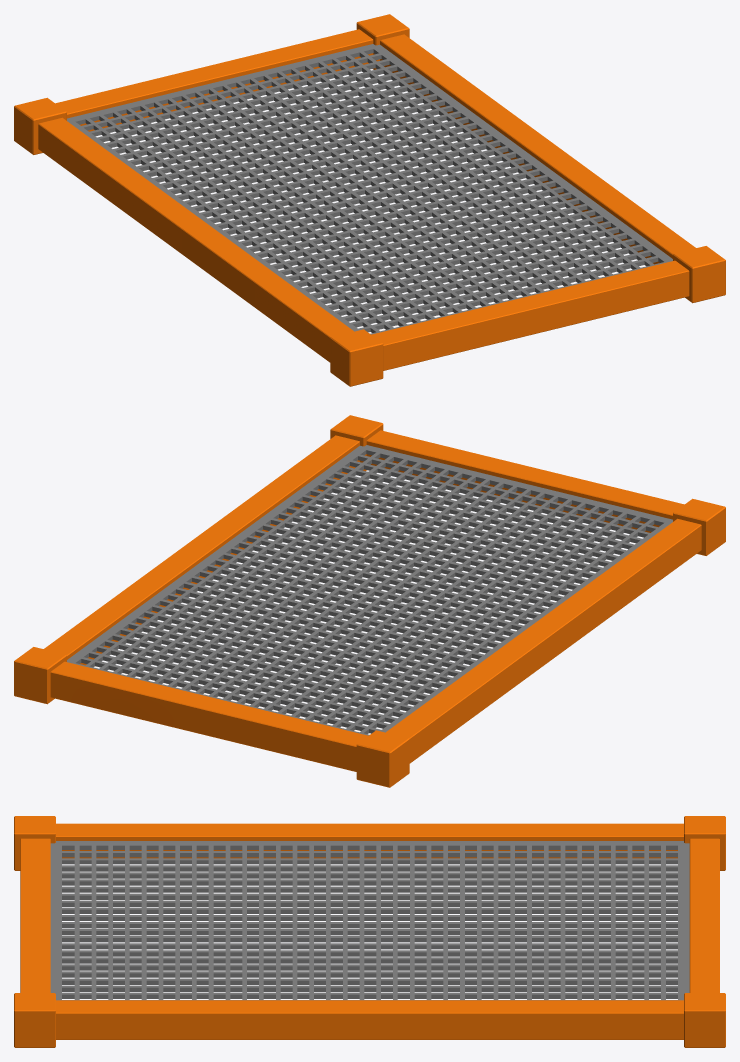
Rendered from DoubleBridge1SegmentYellow.fbx.
The picture shows the model from 3 angles, top to bottom: view 1: azimuth 30°, elevation 25°; view 2: azimuth 150°, elevation 25°; view 3: azimuth 270°, elevation 25°; orthographic projection. The views are drawn at different scales.
Visible parts, largest first — view 1: Grate.001, Cube.001; view 2: Grate.001, Cube.001; view 3: Grate.001, Cube.001.
Boxes of the visible parts, box(x1,y1,x2,y2) form: Grate.001: box(67, 44, 672, 334); Cube.001: box(14, 14, 725, 386); Grate.001: box(67, 445, 672, 735); Cube.001: box(14, 415, 725, 787); Grate.001: box(50, 841, 689, 1000); Cube.001: box(14, 816, 725, 1047).
Bounding box in the file's own units: 11 × 1 × 17.
